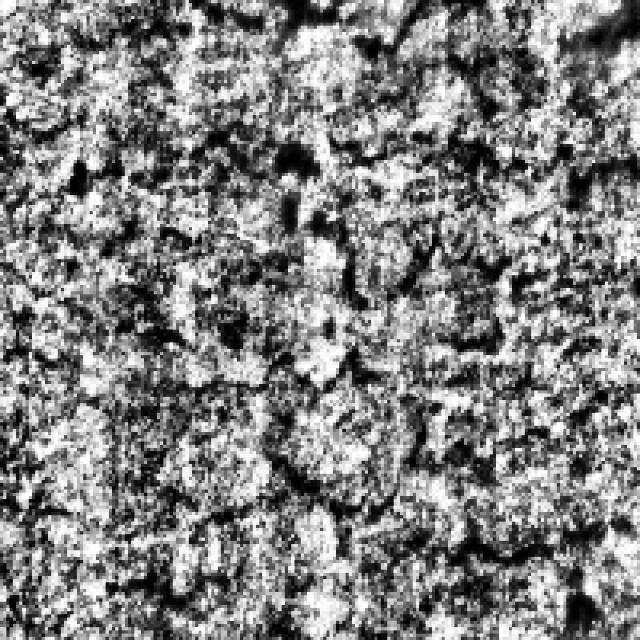Pitted_Surface: (9, 3, 636, 179), (58, 112, 602, 301), (124, 323, 602, 528)
